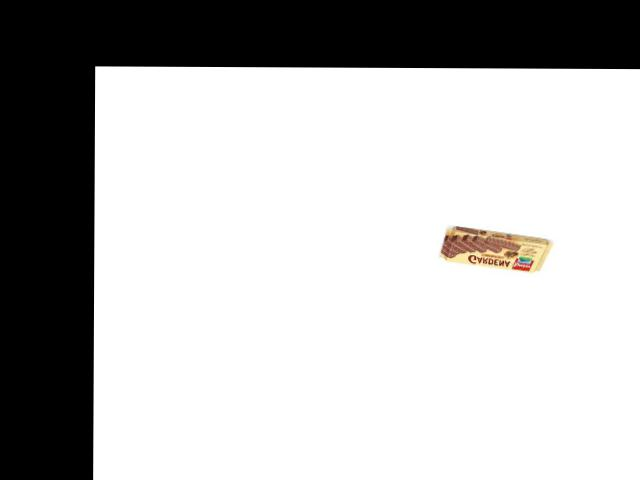chocolate: (433, 230, 556, 274)
